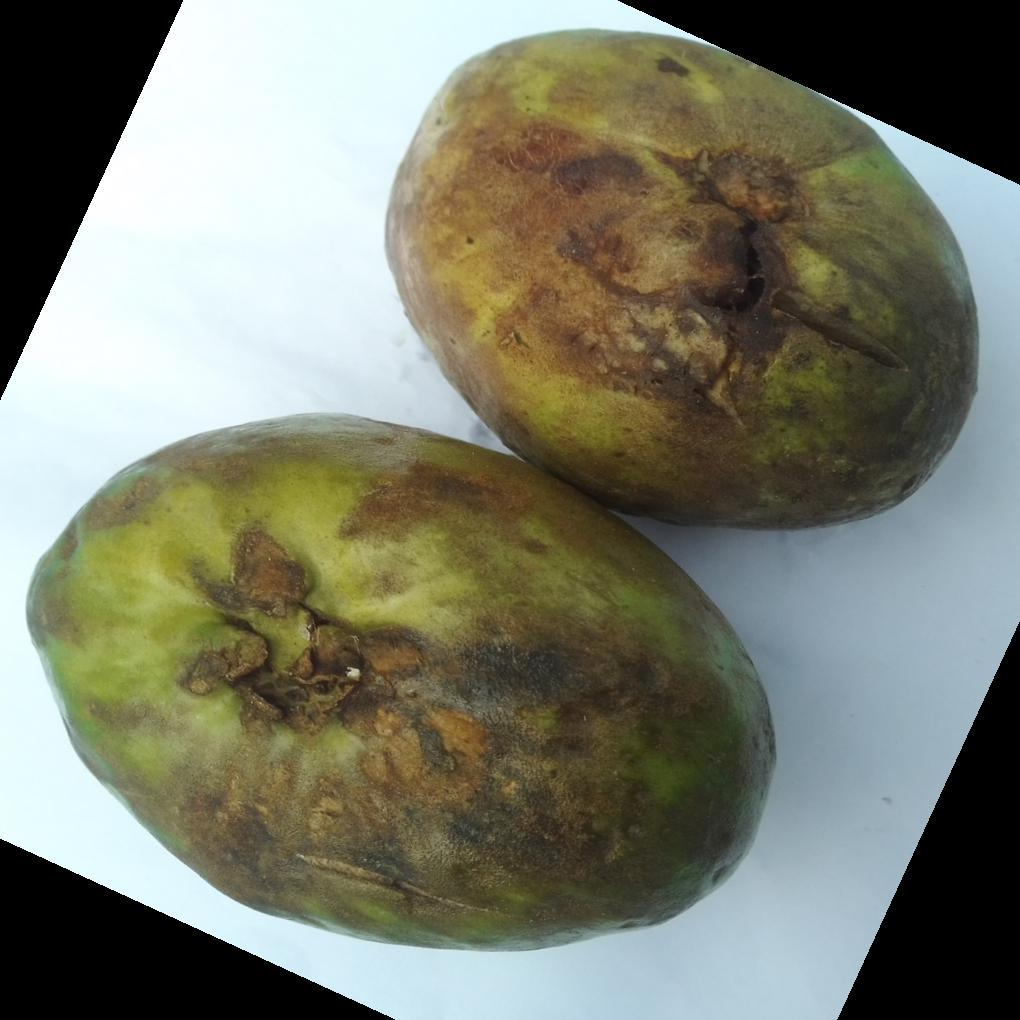FreshOrange: (23, 24, 980, 957)
